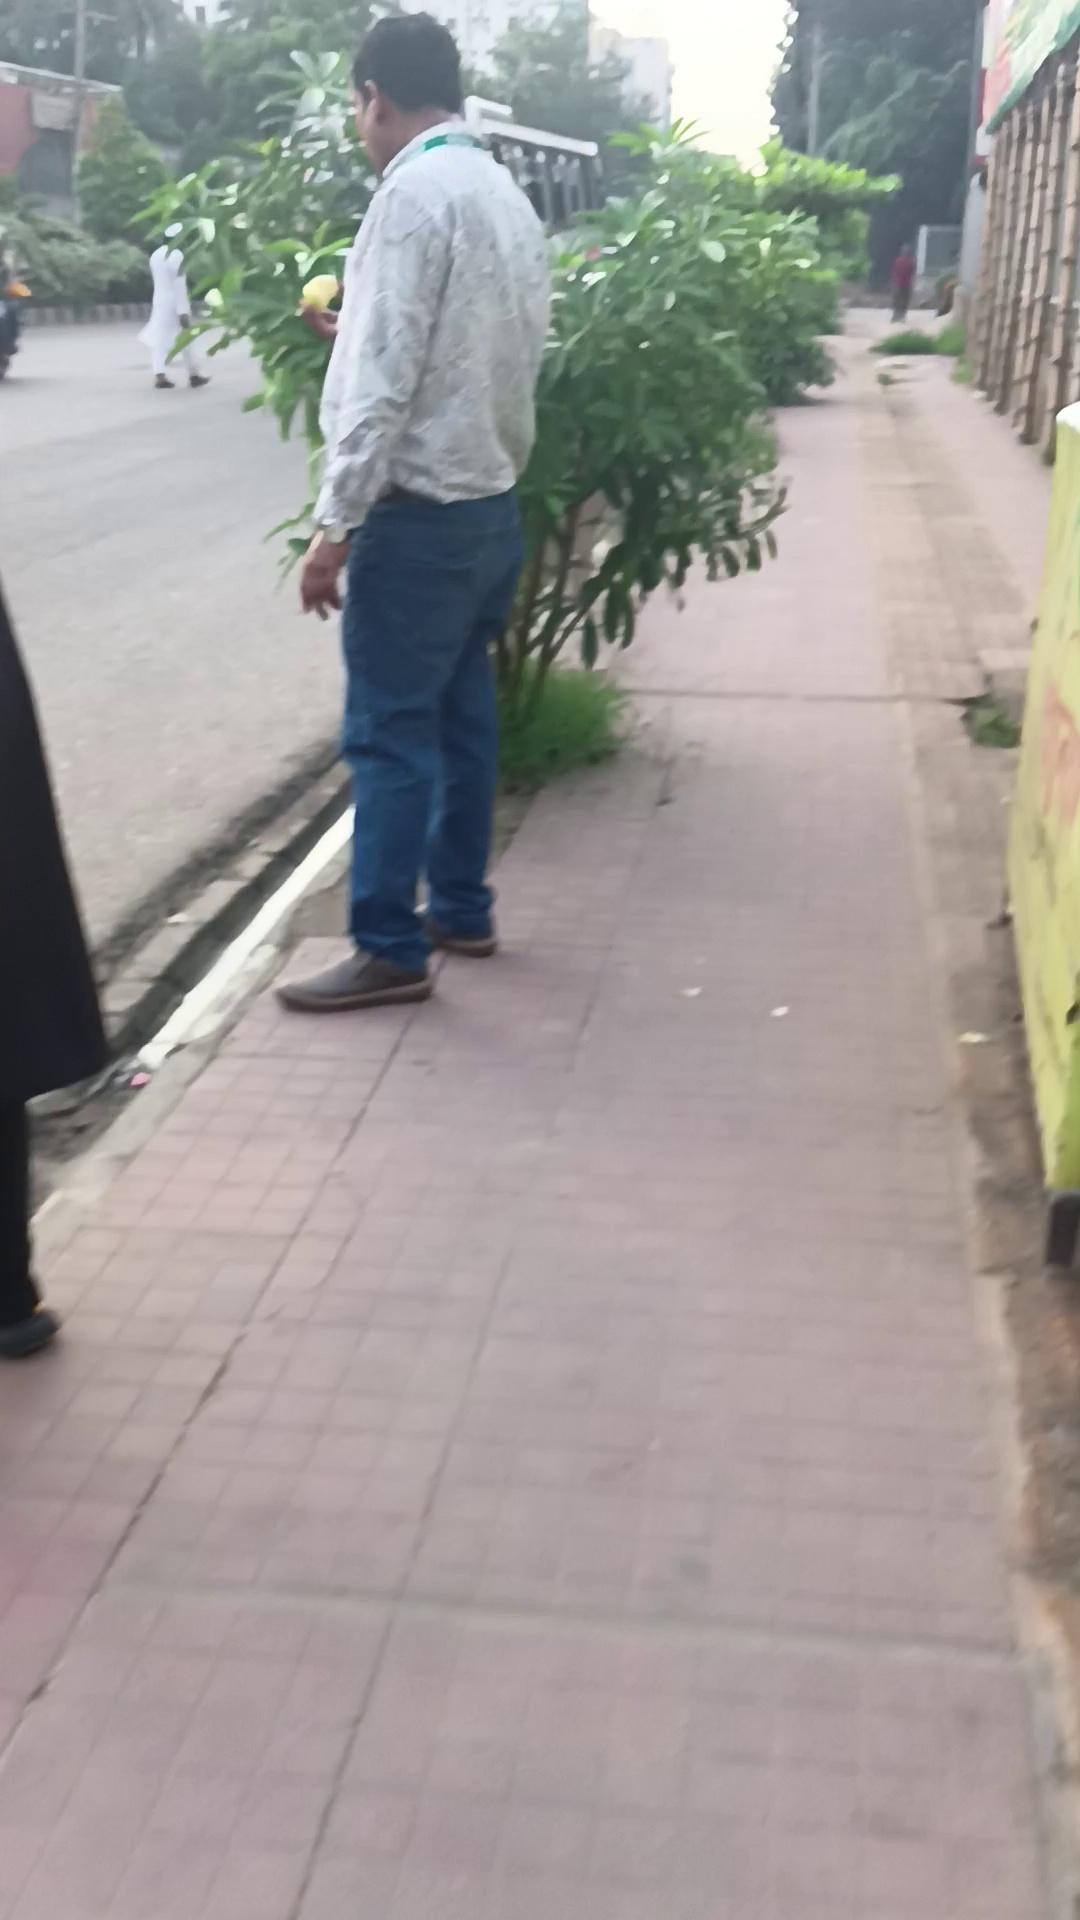Cat: (1001, 396, 1077, 1262)
Muddy road: (273, 11, 553, 1011), (0, 574, 112, 1360), (137, 224, 211, 388), (887, 243, 915, 322)
Potted-plant: (3, 299, 1072, 1915)
